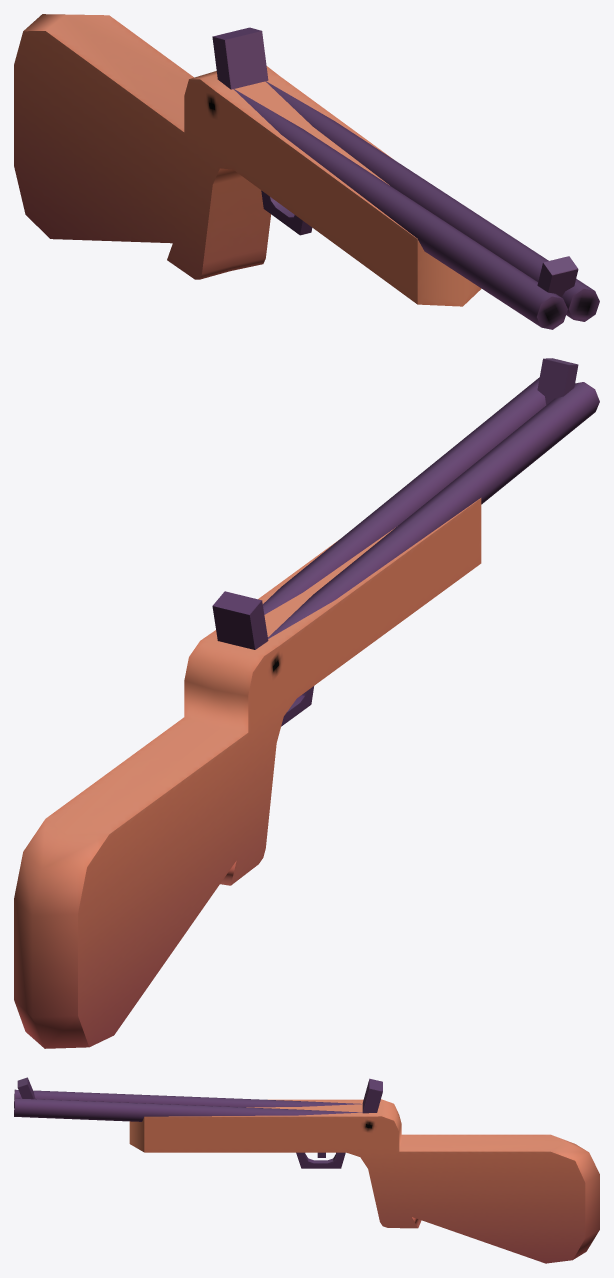
Rendered from Shotgun.fbx.
The picture shows the model from 3 angles, top to bottom: view 1: azimuth 30°, elevation 25°; view 2: azimuth 150°, elevation 25°; view 3: azimuth 270°, elevation 25°; orthographic projection. The views are drawn at different scales.
Parts seen in each view (by area): view 1: shotgun; view 2: shotgun; view 3: shotgun.
Part boxes in pixels (left/top/right/bottom): shotgun: left=14, top=14, right=599, bottom=329; shotgun: left=14, top=358, right=599, bottom=1048; shotgun: left=14, top=1077, right=599, bottom=1263.
Bounding box in the file's own units: 0.5479 × 2.61 × 7.97.
1 material, 1 textured.
